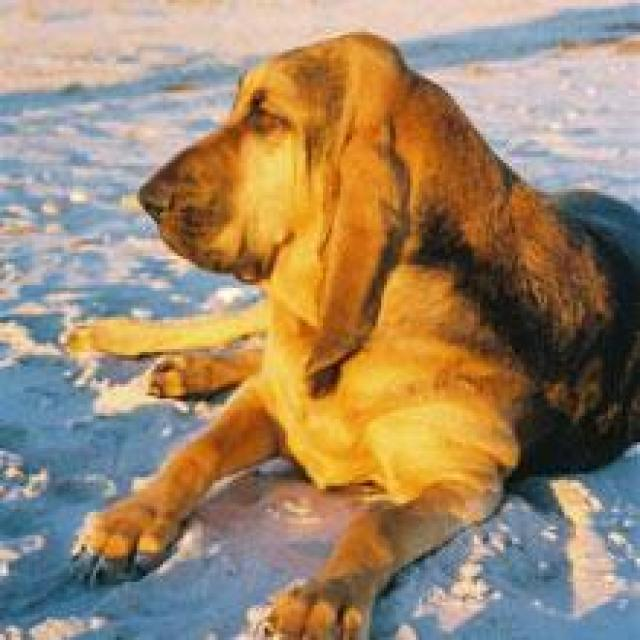bloodhound: (55, 26, 637, 637)
